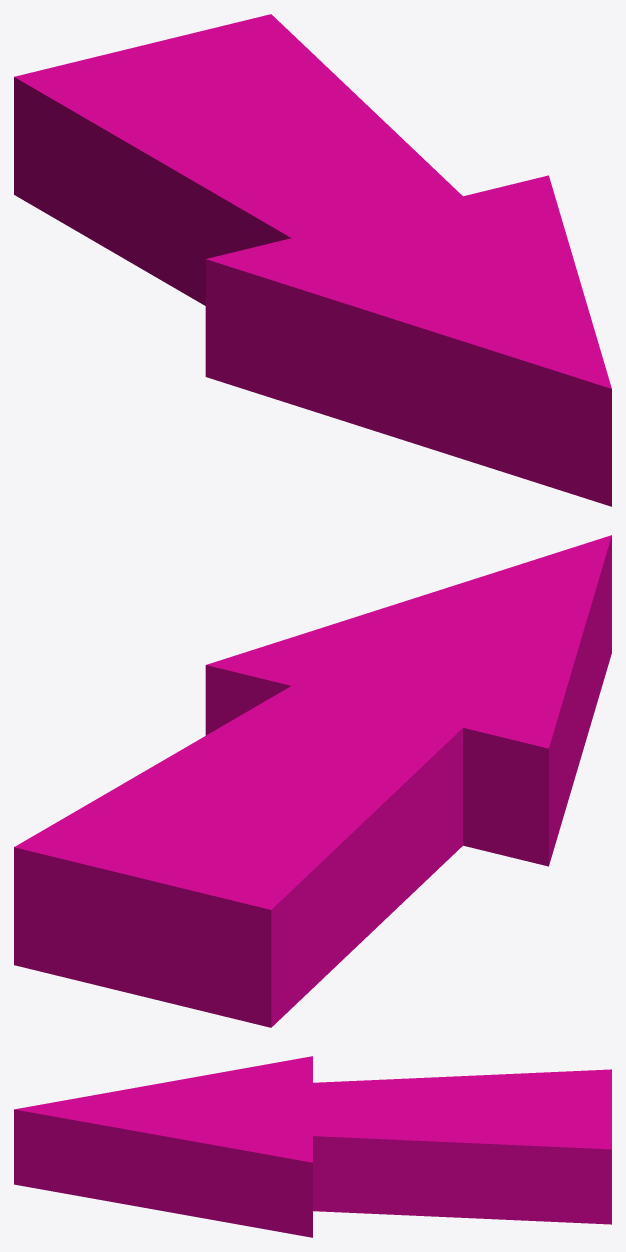
Rendered from connection_arrow.gltf.
3 renders of one model, top to bottom at view 1: azimuth 30°, elevation 25°; view 2: azimuth 150°, elevation 25°; view 3: azimuth 270°, elevation 25°, orthographic. The views are drawn at different scales.
Visible parts, largest first — view 1: BezierCurve; view 2: BezierCurve; view 3: BezierCurve.
Boxes of the visible parts, x1,y1,x2,y2 form: BezierCurve: (14, 14, 611, 506); BezierCurve: (14, 535, 611, 1027); BezierCurve: (14, 1056, 611, 1237).
Size of the model in its own units: 0.5908 by 0.194 by 1.4.
